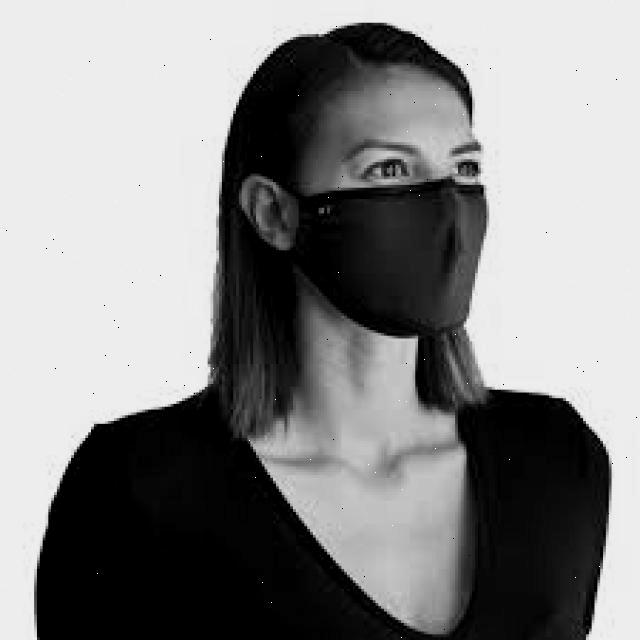fake: (268, 177, 540, 345)
real: (291, 67, 495, 350)
